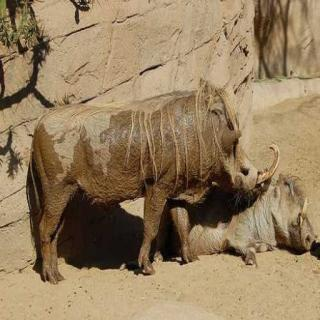Pig: (13, 72, 254, 272), (220, 174, 320, 272)
